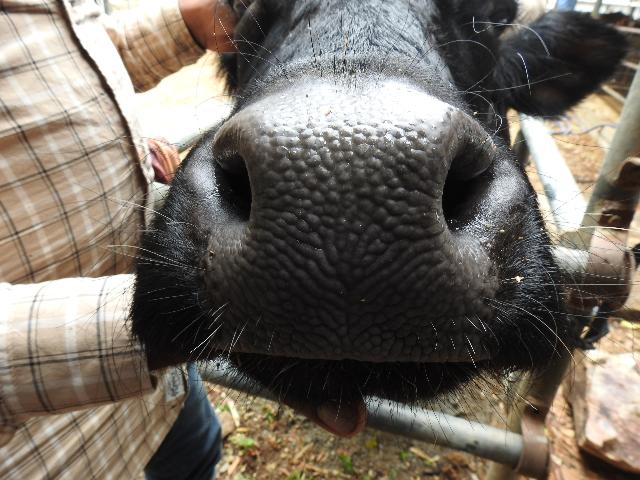Muzzle: (264, 113, 442, 343)
